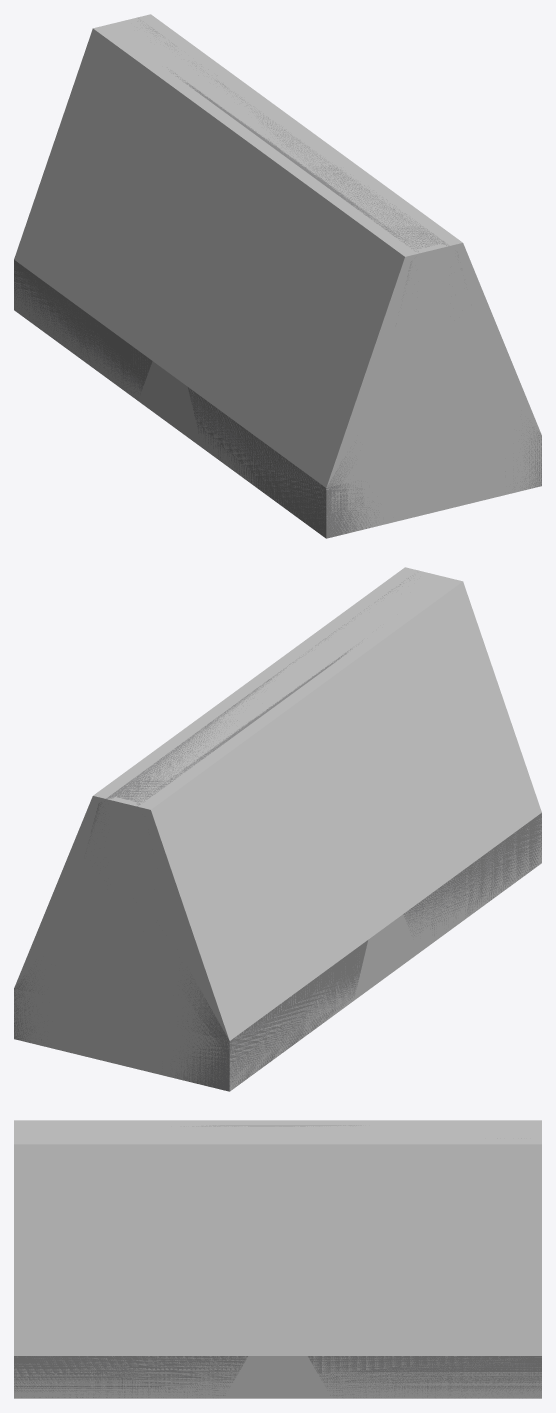
The model's file is SM_Barrier_03_b.fbx.
The picture shows the model from 3 angles, top to bottom: view 1: azimuth 30°, elevation 25°; view 2: azimuth 150°, elevation 25°; view 3: azimuth 270°, elevation 25°; orthographic projection. The views are drawn at different scales.
Visible parts, largest first — view 1: SM_Barrier_03_b_ConvexHulls, SM_Barrier_03_b; view 2: SM_Barrier_03_b_ConvexHulls, SM_Barrier_03_b; view 3: SM_Barrier_03_b_ConvexHulls, SM_Barrier_03_b.
Boxes of the visible parts, box(x1,y1,x2,y2) form: SM_Barrier_03_b_ConvexHulls: box(14, 14, 541, 535); SM_Barrier_03_b: box(14, 18, 541, 538); SM_Barrier_03_b_ConvexHulls: box(14, 567, 541, 1091); SM_Barrier_03_b: box(14, 575, 541, 1091); SM_Barrier_03_b_ConvexHulls: box(14, 1120, 541, 1398); SM_Barrier_03_b: box(14, 1125, 541, 1398).
Bounding box in the file's own units: 67.51 × 169 × 78.52.
2 materials, 1 textured.
